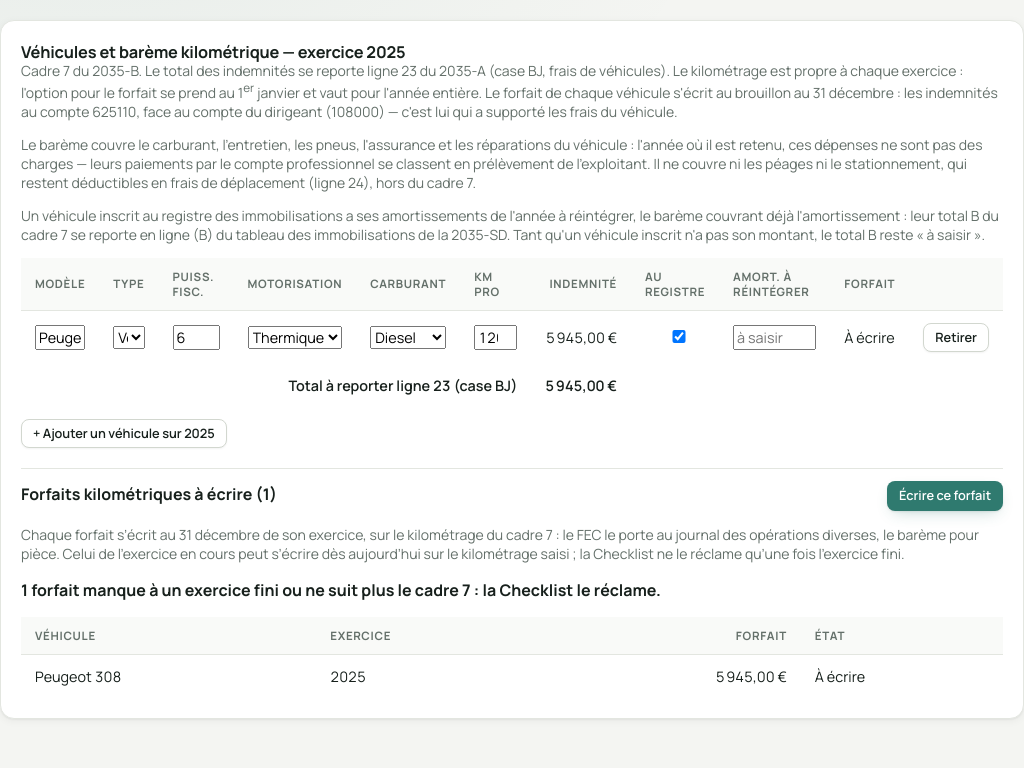
it: VehiculesCard › un montant illisible ne s’écrit pas, et se dit
Type "-12" into the field named "Amortissements à réintégrer de Peugeot 308".
click(775, 337); type("-12")  # box [733, 325, 816, 350]
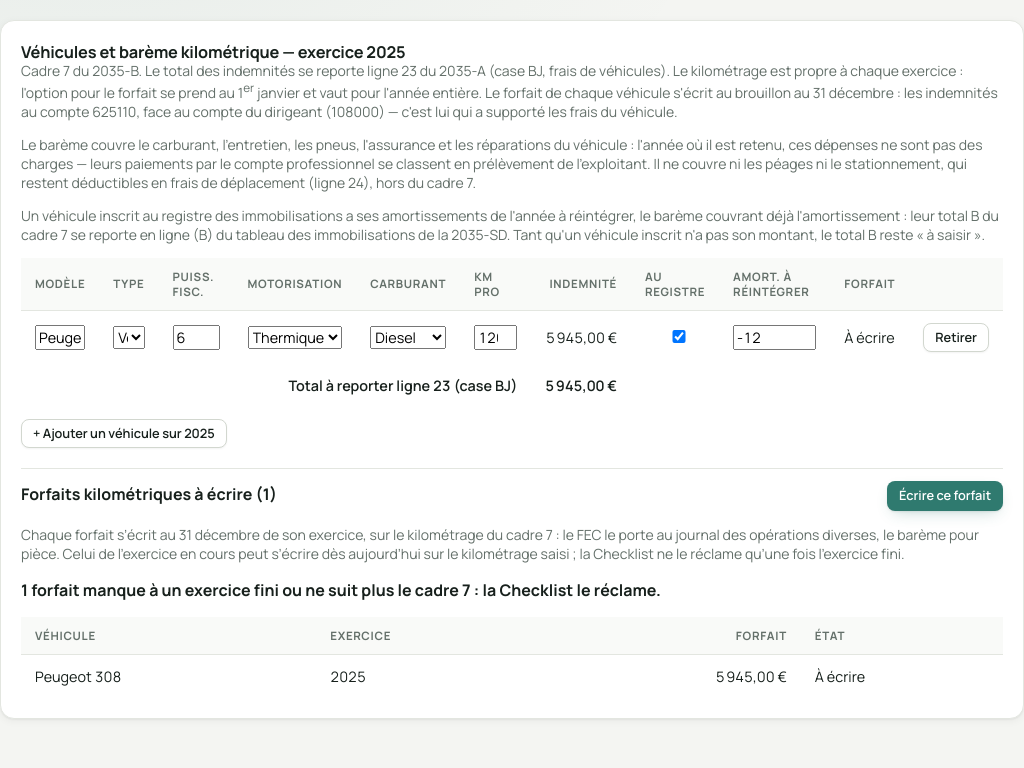
Leave the field named "Amortissements à réintégrer de Peugeot 308", box [733, 325, 816, 350]
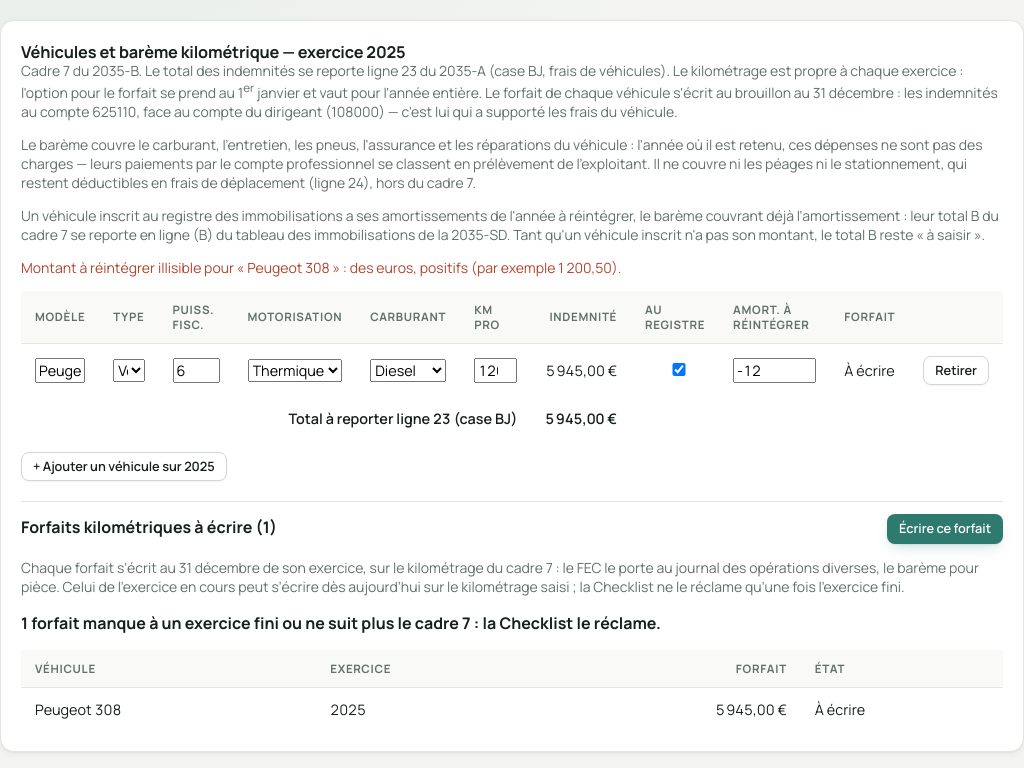
Now the text "Montant à réintégrer illisible pour « Peugeot 308 »" is shown, box [21, 258, 621, 277]
